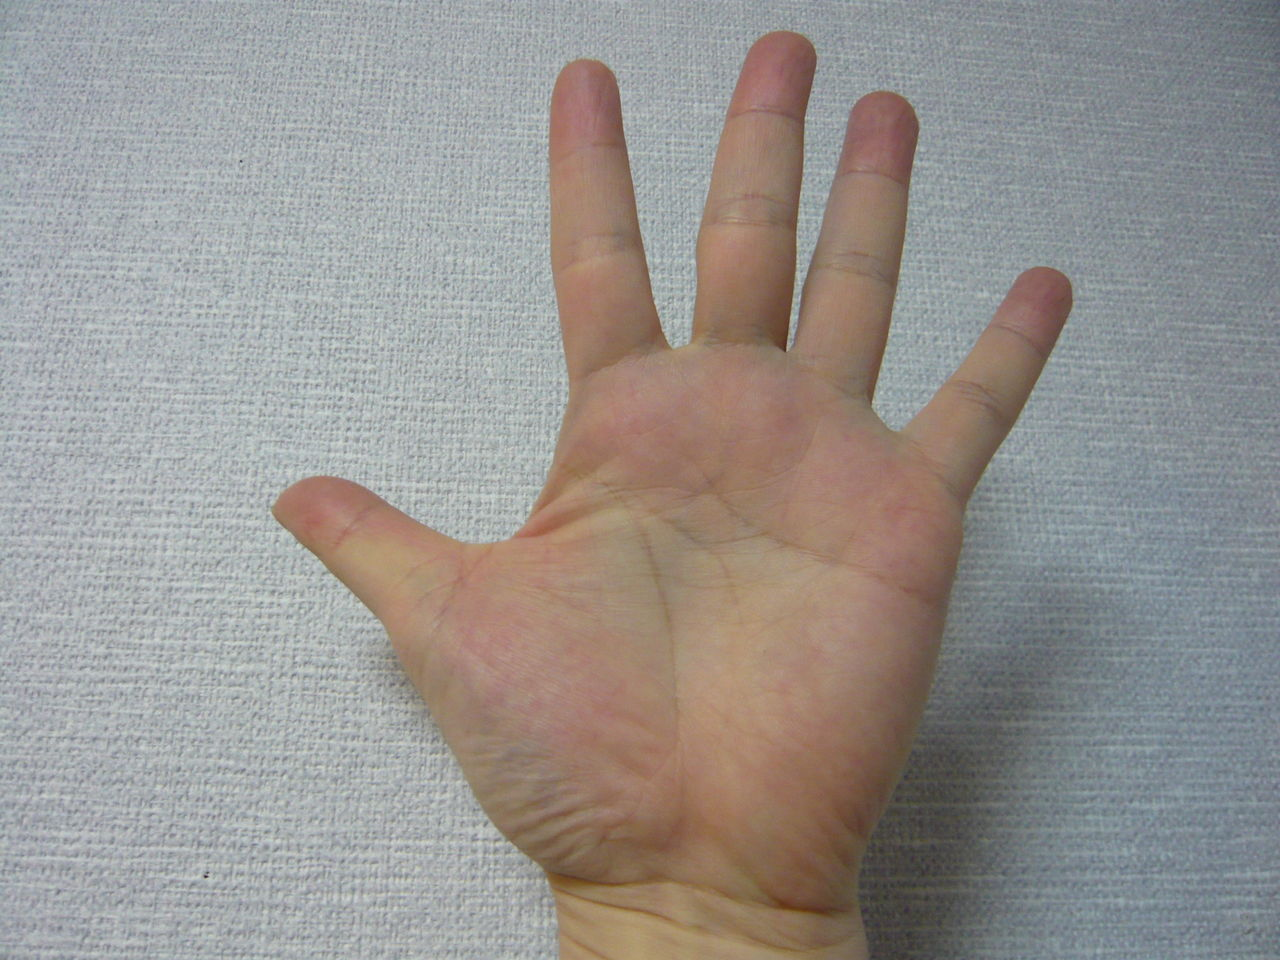hand: (266, 30, 1074, 890)
